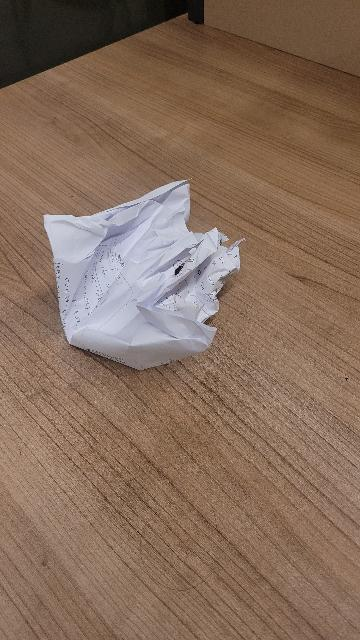Kagit: (41, 178, 244, 373)
